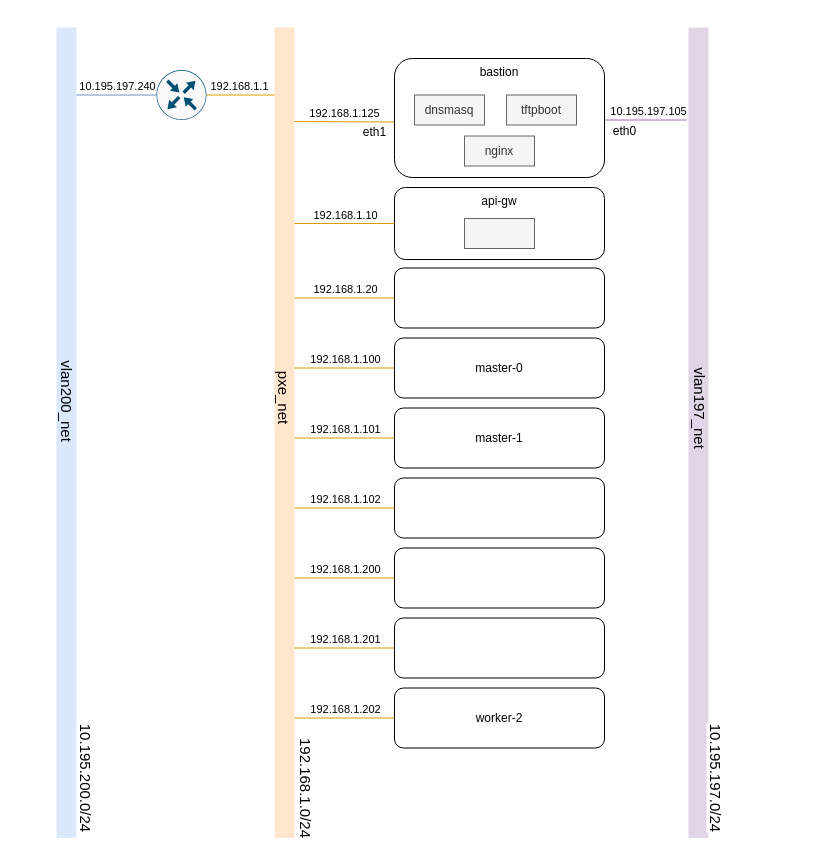
Image size: 814x865. Some labels were removed from this diagram. The box of each missing label's shape, as (x1, y1, x2, y2) in pixels:
boostrap: (394, 267, 604, 328)
haproxy: (464, 218, 534, 248)
master -2: (394, 477, 604, 538)
worker-0: (394, 547, 604, 608)
worker-1: (394, 617, 604, 678)
